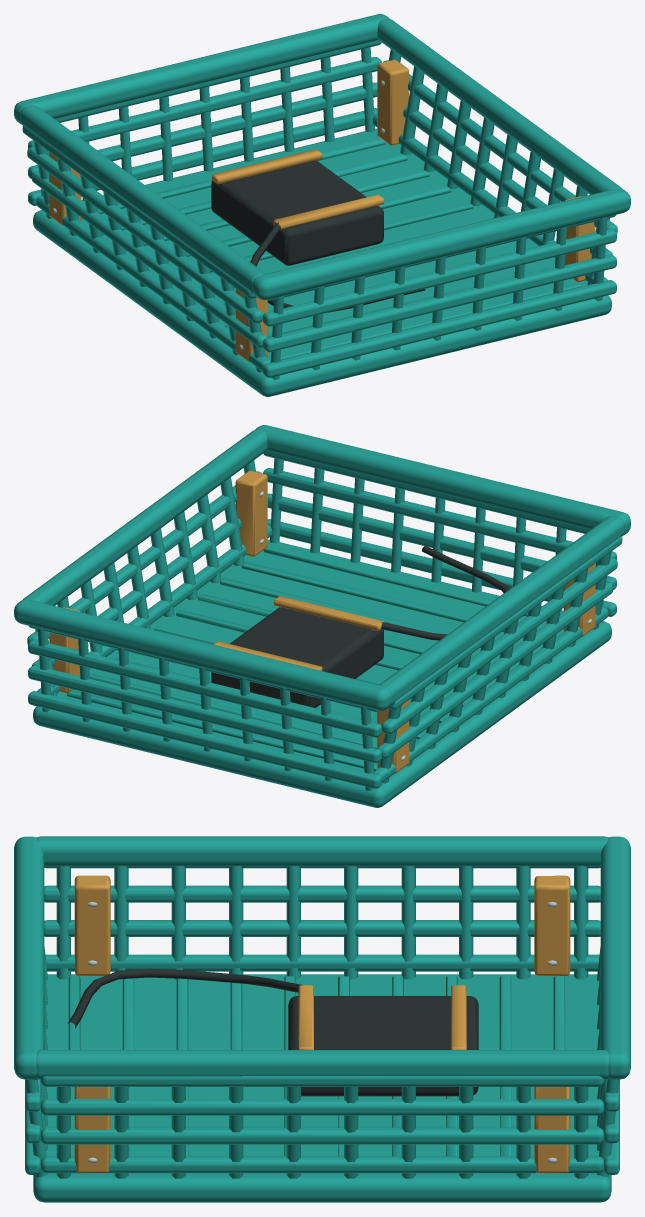
The model's file is basket-light.glb.
3 views of the same model, one above another, from view 1: azimuth 30°, elevation 25°; view 2: azimuth 150°, elevation 25°; view 3: azimuth 270°, elevation 25° (orthographic). The views are drawn at different scales.
Parts seen in each view (by area): view 1: plastic, dark, brass; view 2: plastic, dark, brass; view 3: plastic, brass, dark.
Part boxes in pixels (<box>): plastic: <box>14,14,630,396</box>; dark: <box>211,160,425,312</box>; brass: <box>49,59,595,362</box>; plastic: <box>14,425,630,807</box>; dark: <box>211,546,509,707</box>; brass: <box>49,470,595,773</box>; plastic: <box>14,836,630,1202</box>; brass: <box>74,875,570,1173</box>; dark: <box>67,968,478,1096</box>.
Size of the model in its own units: 1.49 by 0.4775 by 1.72.
